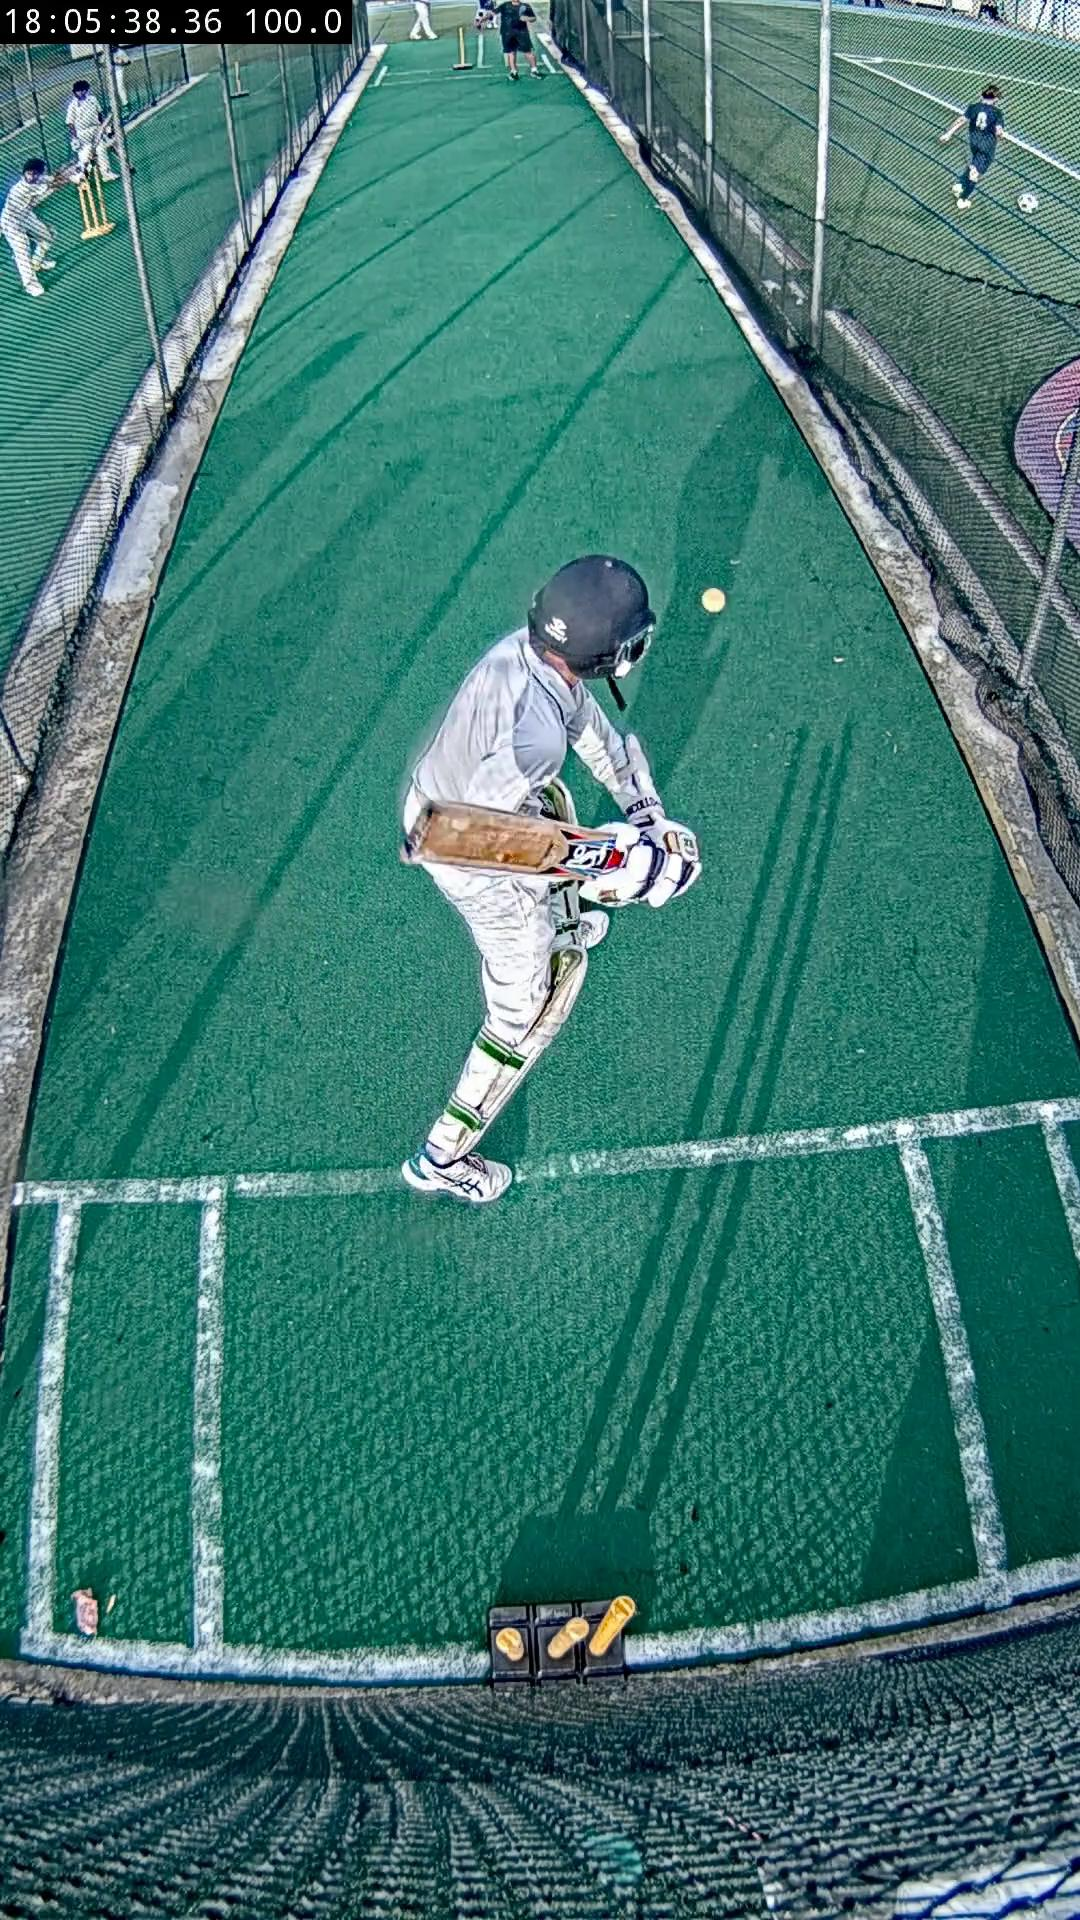ball: (702, 588, 728, 612)
bat: (409, 803, 626, 876)
gloves: (582, 822, 702, 907)
helmet: (529, 555, 657, 679)
pads: (492, 945, 588, 1112)
stumps: (488, 1594, 637, 1684)
